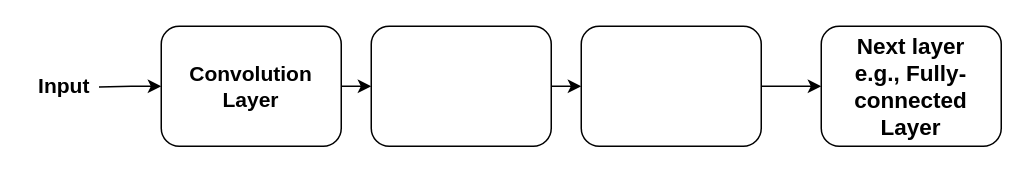
The diagram is 1028 pixels wide and 173 high, and some of its shapes have lost their labels. Each missing label, with the centre of its shape:
"Non-linearity Layer e.g., ReLU" goes at pixel 460 85.
"Pooling layer e.g., Max Pooling" goes at pixel 670 85.
